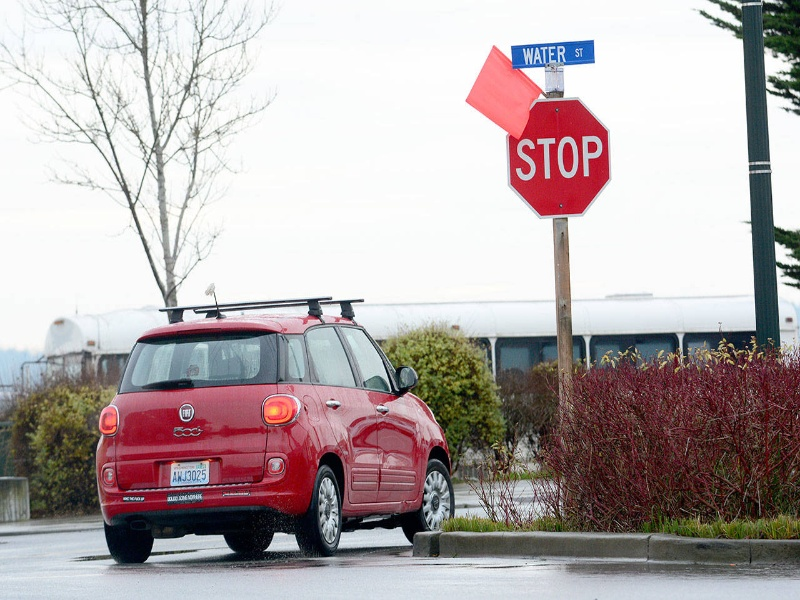stop sign: (502, 93, 615, 220)
